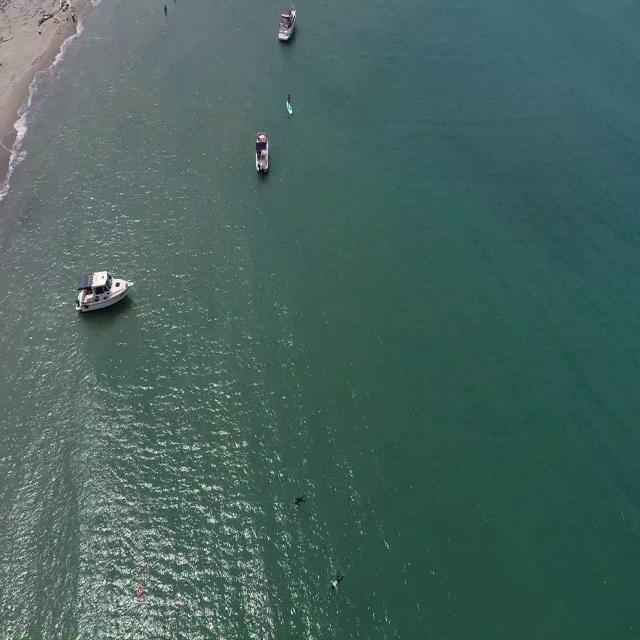boat: (76, 272, 132, 311), (255, 132, 272, 173), (278, 4, 296, 42)
life_buoy: (138, 584, 144, 598)
person: (329, 570, 345, 598), (294, 494, 308, 508), (162, 2, 170, 16), (287, 93, 293, 107)
surfboard: (284, 102, 294, 115)
